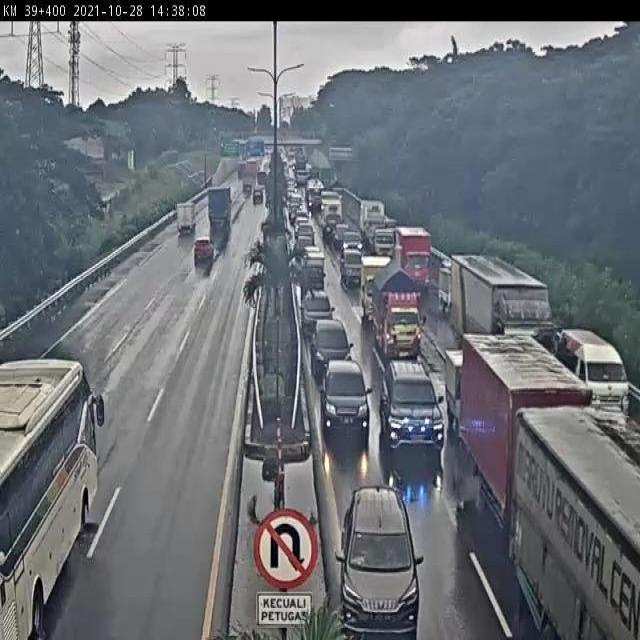car: (336, 486, 419, 634)
truck-l-: (450, 252, 549, 384)
truck-m-: (463, 335, 594, 525), (370, 262, 423, 358)
